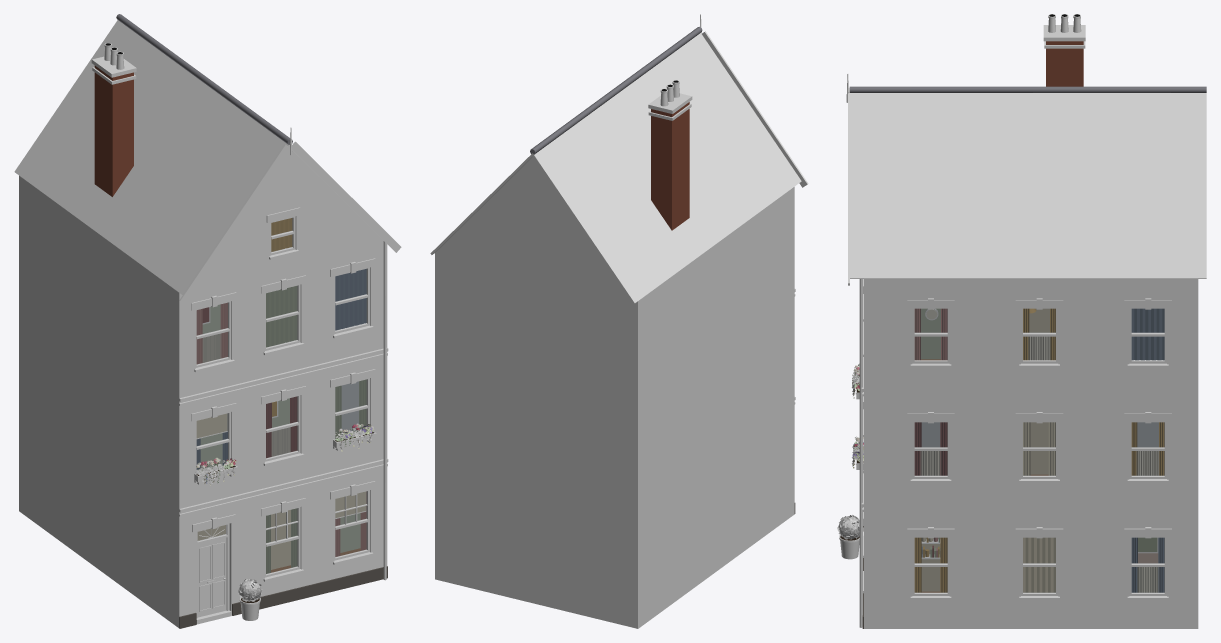
Rendered from GateStreet_Bend2.glb.
The picture shows the model from 3 angles, left to right: view 1: azimuth 30°, elevation 25°; view 2: azimuth 150°, elevation 25°; view 3: azimuth 270°, elevation 25°; orthographic projection. The views are drawn at different scales.
Parts seen in each view (by area): view 1: GateStreet_Bend2; view 2: GateStreet_Bend2; view 3: GateStreet_Bend2.
Boxes of the visible parts, <box> form: GateStreet_Bend2: <box>14,14,401,628</box>; GateStreet_Bend2: <box>430,14,808,628</box>; GateStreet_Bend2: <box>837,14,1206,628</box>.
Size of what is drawn, in the model's own units: 6.39 by 13.82 by 8.84.
